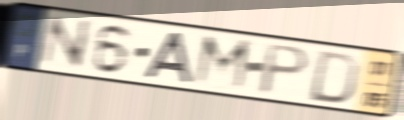6: (92, 23, 135, 76)
A: (141, 30, 195, 86)
D: (304, 49, 363, 106)
M: (190, 32, 255, 96)
N: (37, 14, 95, 72)
P: (255, 41, 313, 97)
